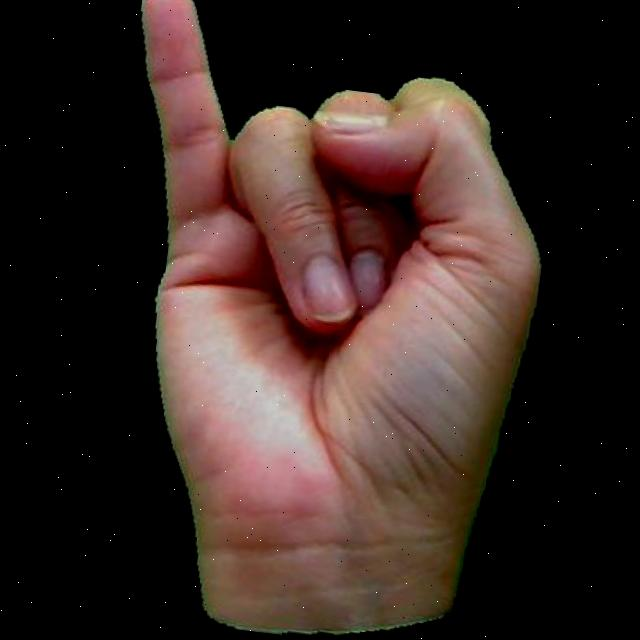i: (59, 0, 573, 640)
